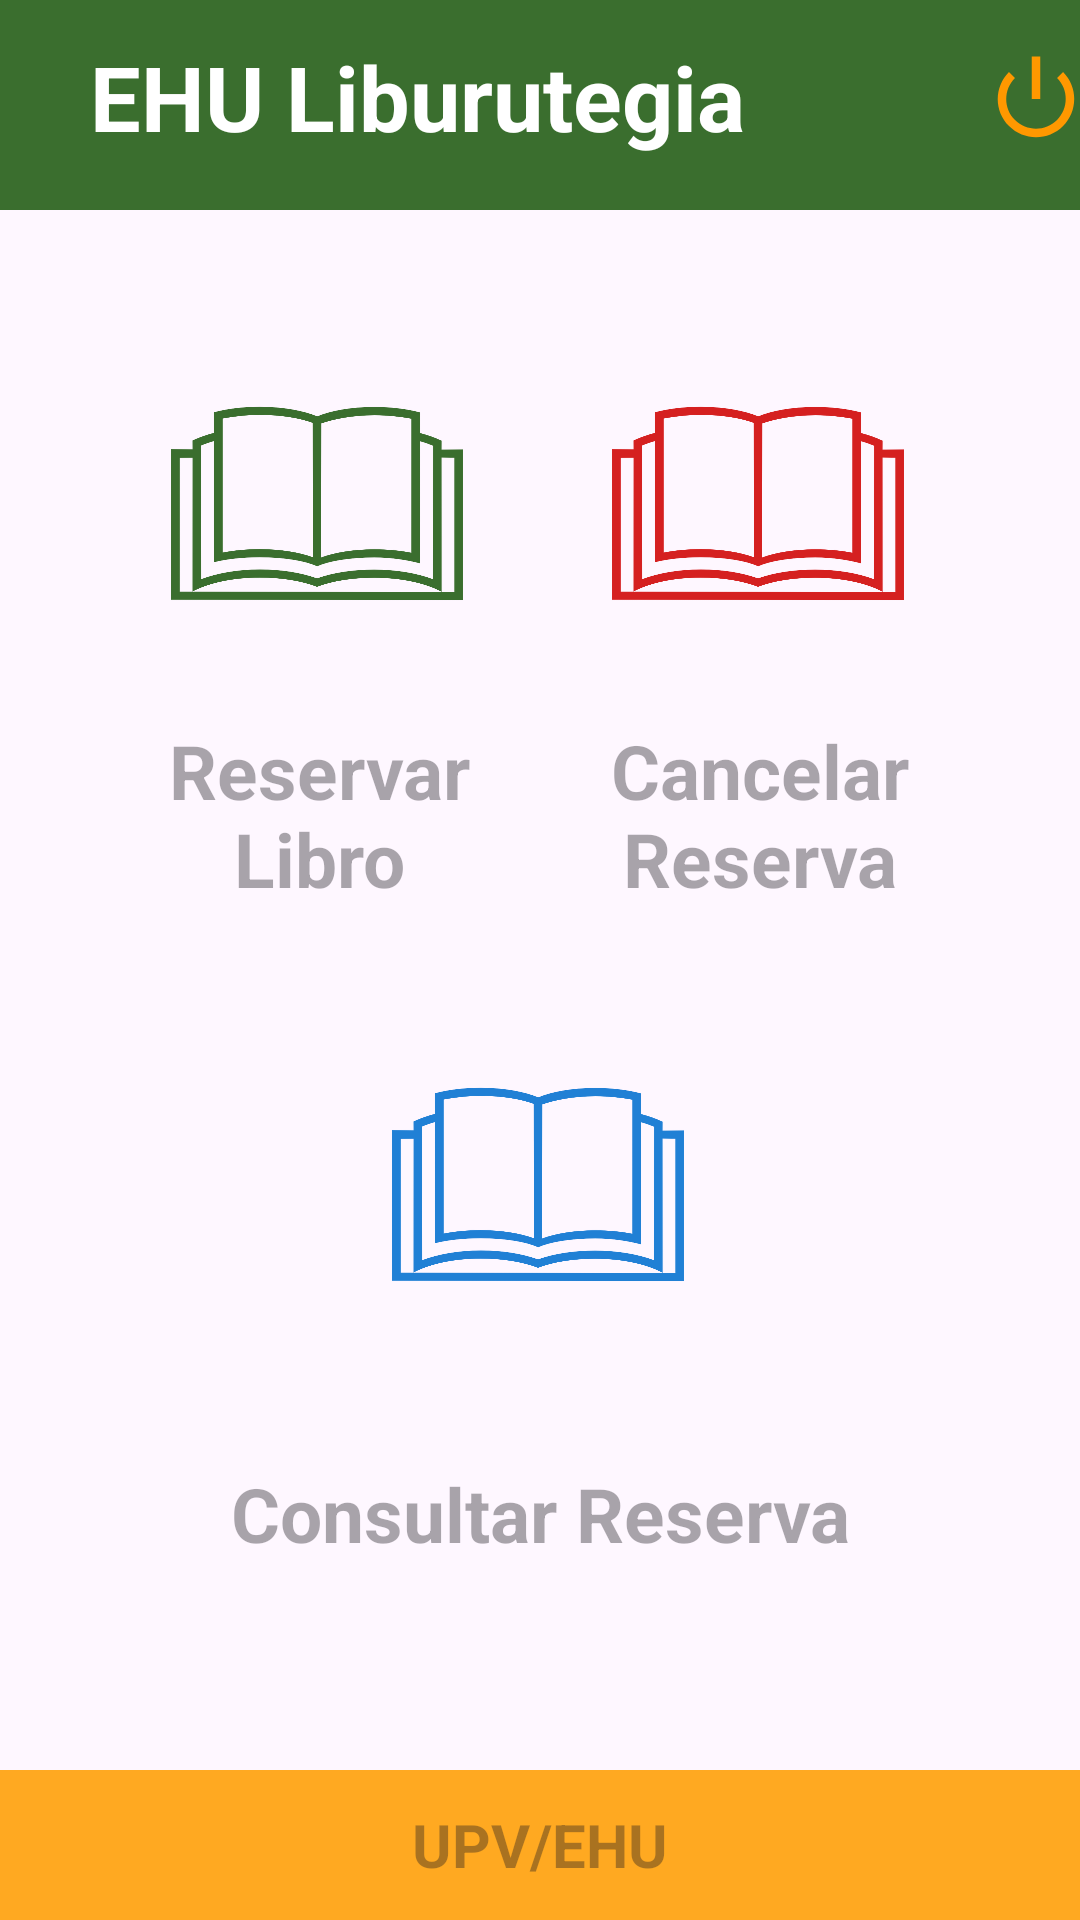

Icon click points for this 1080 × 1920 phone screenshot, format (x,y):
lock power off: (1036,97)
